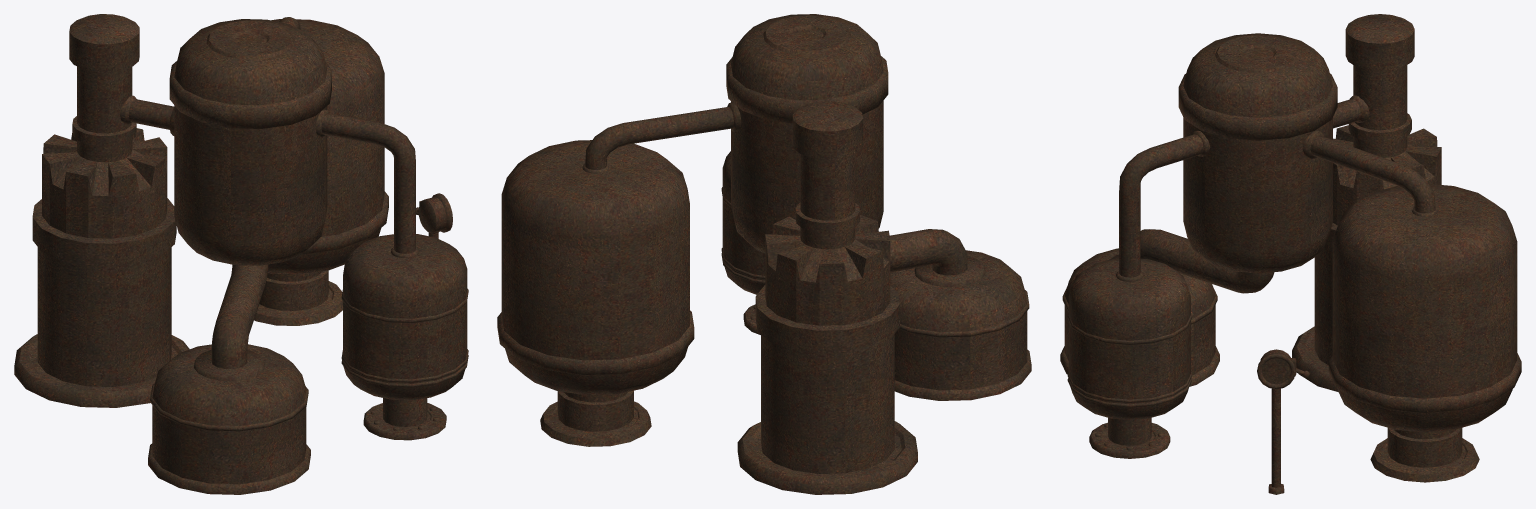
Rendered from tank_system_mx_1.obj.
The picture shows the model from 3 angles, left to right: view 1: azimuth 30°, elevation 25°; view 2: azimuth 150°, elevation 25°; view 3: azimuth 270°, elevation 25°; orthographic projection. The views are drawn at different scales.
Visible parts, largest first — view 1: tank_system_mx_1; view 2: tank_system_mx_1; view 3: tank_system_mx_1.
Boxes of the visible parts, box(x1,y1,x2,y2) form: tank_system_mx_1: box(14, 14, 468, 494); tank_system_mx_1: box(497, 14, 1031, 494); tank_system_mx_1: box(1060, 14, 1521, 494).
Bounding box in the file's own units: 2.61 × 2.39 × 2.87.
